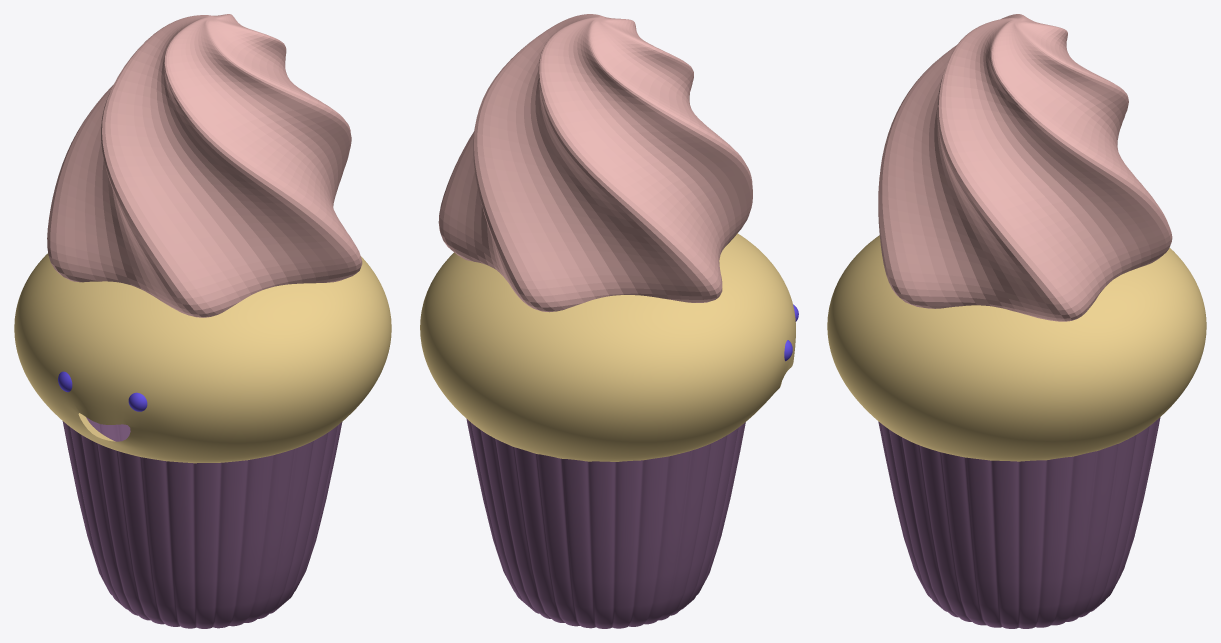
The model's file is muffinCharacter.fbx.
3 views of the same model, side by side, from view 1: azimuth 30°, elevation 25°; view 2: azimuth 150°, elevation 25°; view 3: azimuth 270°, elevation 25° (orthographic).
Visible parts, largest first — view 1: Star, Sphere, Circle; view 2: Star, Sphere, Circle; view 3: Star, Sphere, Circle.
Boxes of the visible parts, x1,y1,x2,y2 form: Star: [47, 14, 362, 317]; Sphere: [14, 253, 391, 463]; Circle: [62, 417, 342, 628]; Star: [438, 14, 752, 312]; Sphere: [420, 233, 795, 461]; Circle: [466, 419, 745, 628]; Star: [878, 14, 1172, 321]; Sphere: [827, 235, 1206, 461]; Circle: [878, 417, 1160, 628].
Bounding box in the file's own units: 168 × 283 × 168.
